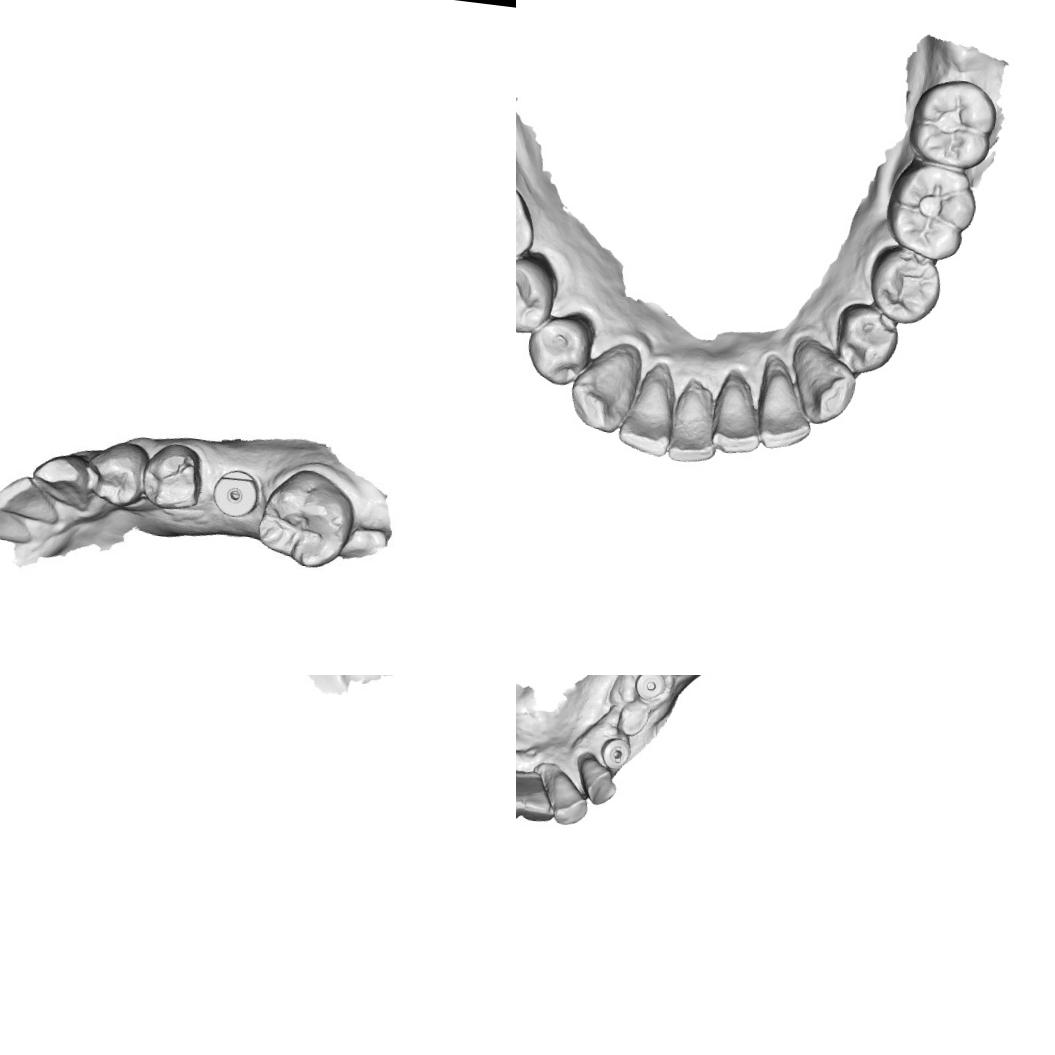canine: (562, 341, 640, 436), (784, 339, 862, 430), (28, 447, 100, 518)
implant: (210, 462, 260, 528), (630, 675, 669, 702)
implant_minus: (595, 735, 634, 773)
incisor: (617, 362, 679, 458), (754, 364, 818, 454), (664, 379, 724, 466), (708, 371, 768, 458), (0, 469, 62, 528), (570, 754, 623, 810), (546, 770, 591, 826), (0, 499, 44, 554), (518, 772, 558, 826), (516, 768, 525, 822)
molar: (253, 465, 357, 574), (887, 158, 977, 264), (907, 72, 997, 172), (516, 176, 538, 272)
premolar: (865, 243, 945, 327), (828, 298, 906, 383), (524, 314, 592, 388), (84, 442, 148, 510), (142, 442, 202, 509), (516, 255, 555, 336)
